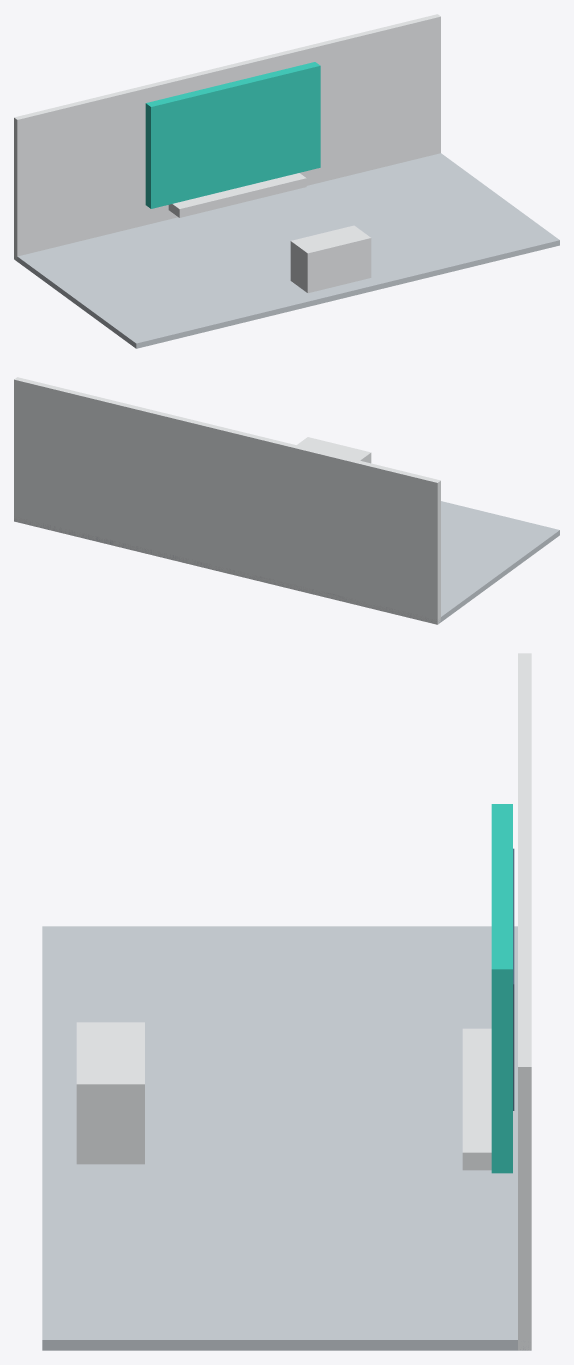
The picture shows the model from 3 angles, top to bottom: view 1: azimuth 30°, elevation 25°; view 2: azimuth 150°, elevation 25°; view 3: azimuth 270°, elevation 25°; orthographic projection. The views are drawn at different scales.
Visible parts, largest first — view 1: Exhibition Booth Concept; view 2: Exhibition Booth Concept; view 3: Exhibition Booth Concept.
Part boxes in pixels (x1,y1,x2,y2): Exhibition Booth Concept: [14, 14, 559, 348]; Exhibition Booth Concept: [14, 377, 559, 624]; Exhibition Booth Concept: [42, 653, 531, 1350].
Size of the model in its own units: 10 by 3.2 by 5.
